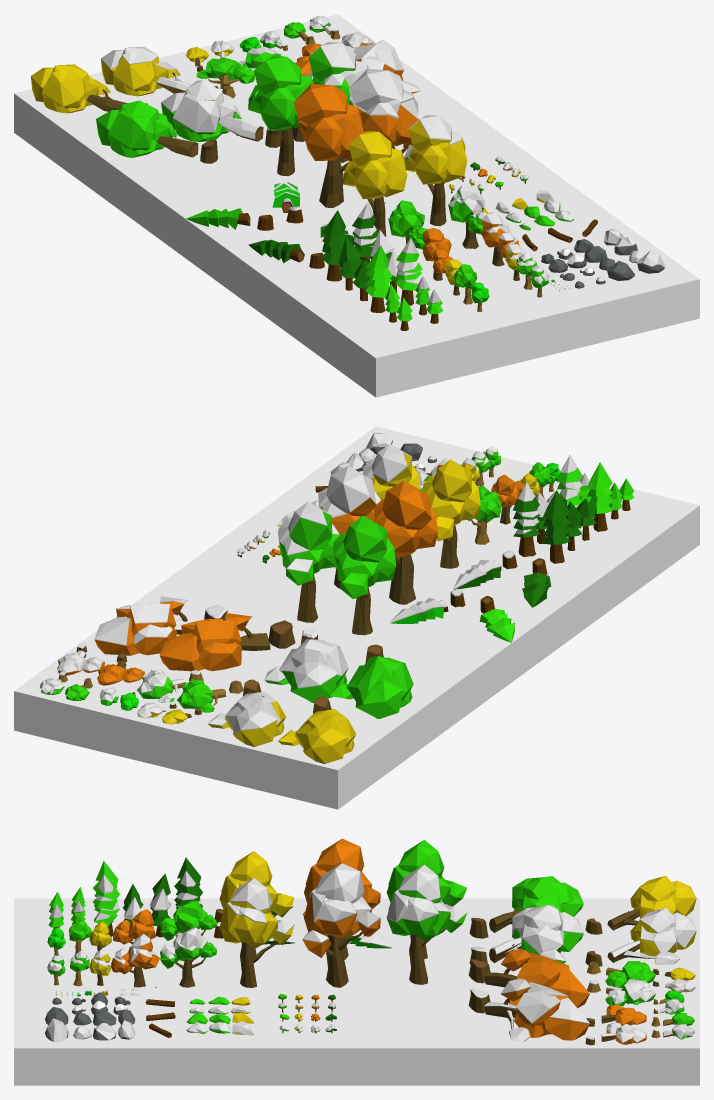
File: Example All.fbx
The picture shows the model from 3 angles, top to bottom: view 1: azimuth 30°, elevation 25°; view 2: azimuth 150°, elevation 25°; view 3: azimuth 270°, elevation 25°; orthographic projection. The views are drawn at different scales.
Visible parts, largest first — view 1: Cube; view 2: Cube; view 3: Cube.
Part boxes in pixels (x1,y1,x2,y2): Cube: [14, 14, 699, 397]; Cube: [14, 426, 699, 809]; Cube: [14, 838, 699, 1085].
Size of the model in its own units: 6494 by 3029 by 12523.
